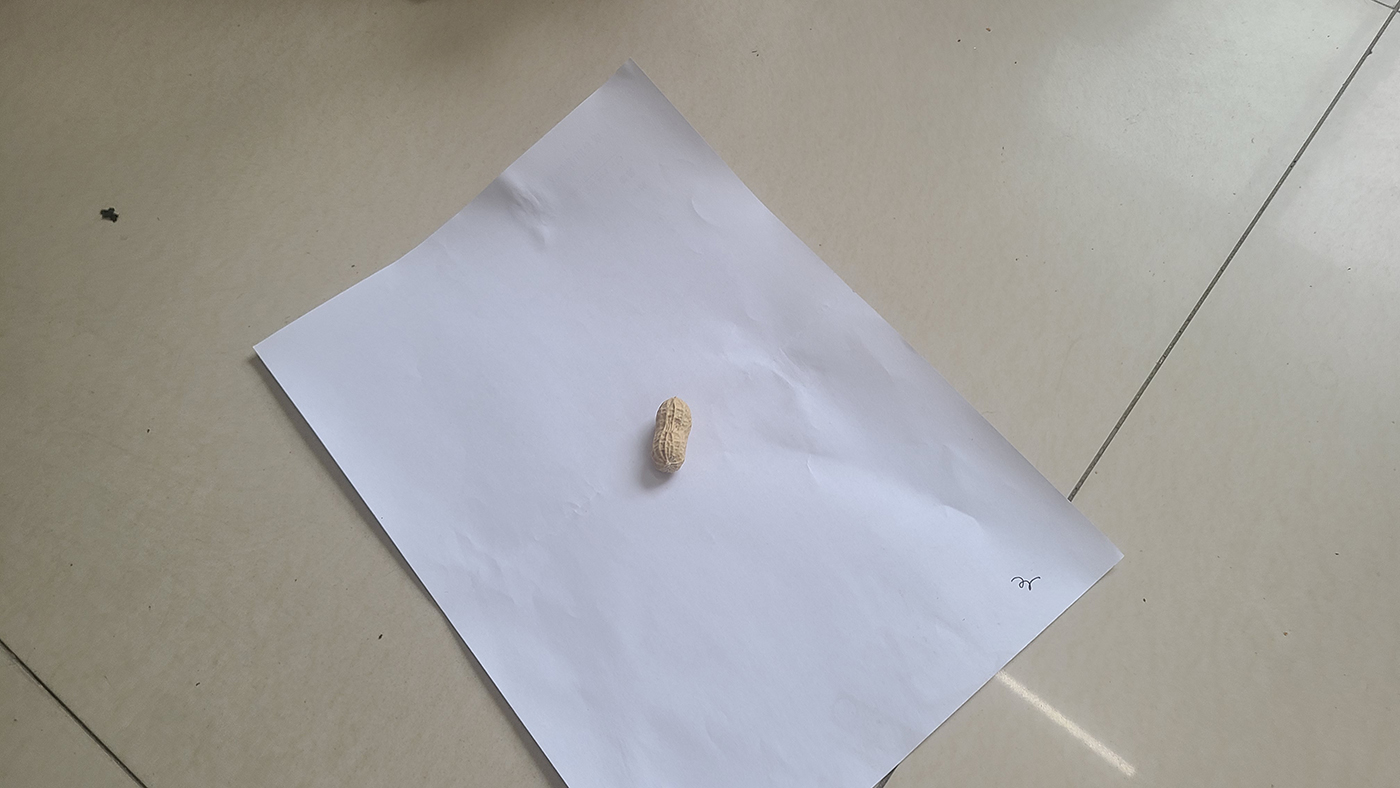h: (650, 397, 693, 474)
